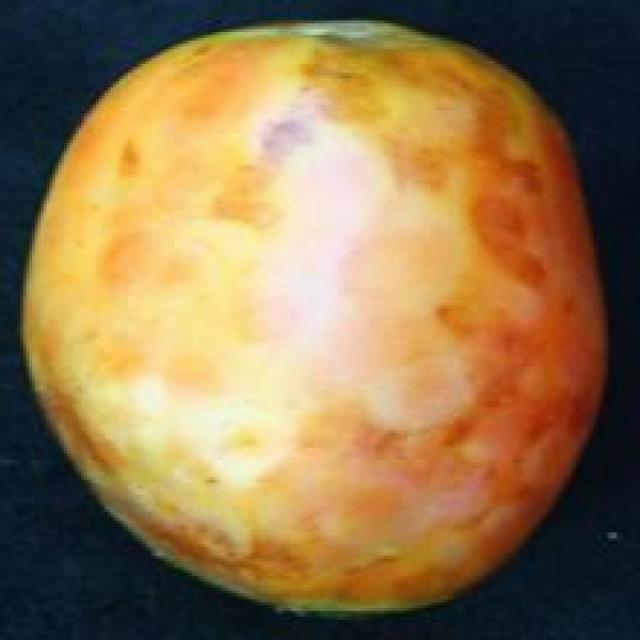Spotted wilt Virus Fruit: (13, 10, 404, 412)
